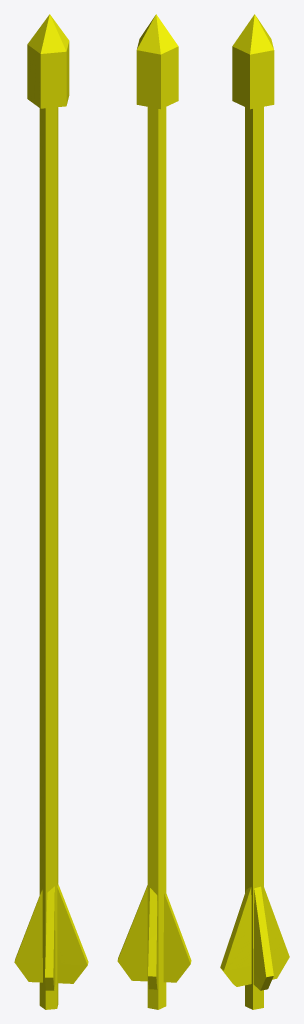
Rendered from _arrow_c_10.glb.
3 renders of one model, left to right at view 1: azimuth 30°, elevation 25°; view 2: azimuth 210°, elevation 25°; view 3: azimuth 330°, elevation 25°, orthographic.
Parts seen in each view (by area): view 1: arrow_c_10; view 2: arrow_c_10; view 3: arrow_c_10.
Part boxes in pixels (box(x1,y1,x2,y2)): arrow_c_10: box(14, 14, 88, 1009); arrow_c_10: box(117, 14, 191, 1009); arrow_c_10: box(220, 14, 289, 1009).
Bounding box in the file's own units: 1114 × 18853 × 1135.
